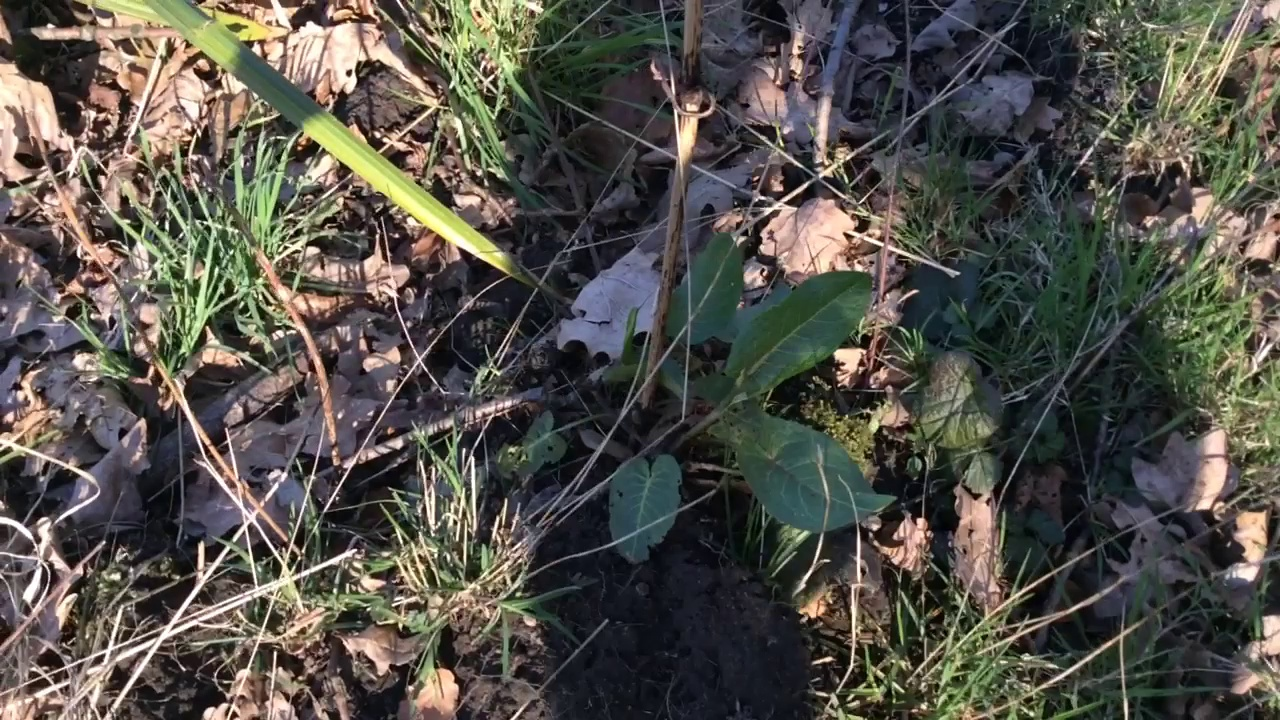rumex: (495, 231, 893, 564)
